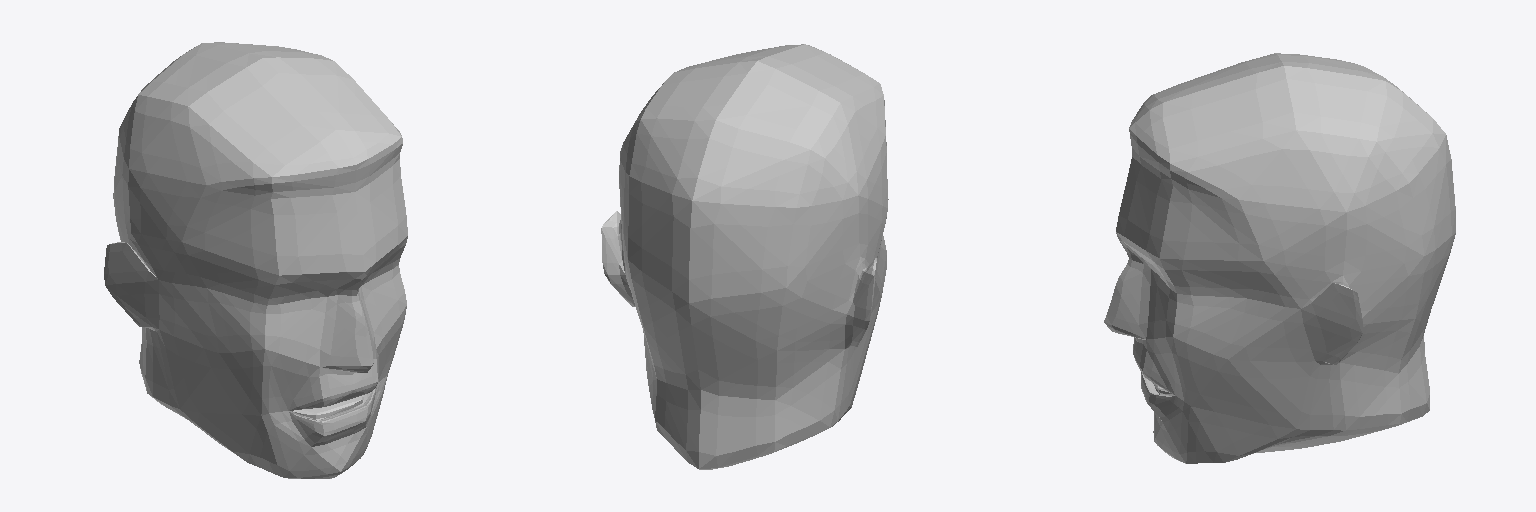
Rendered from CutterHead8.obj.
The picture shows the model from 3 angles: view 1: azimuth 30°, elevation 25°; view 2: azimuth 150°, elevation 25°; view 3: azimuth 270°, elevation 25°; orthographic projection.
Parts seen in each view (by area): view 1: Regroup37; view 2: Regroup37; view 3: Regroup37.
Boxes of the visible parts, <box> form: Regroup37: <box>104,42,407,478</box>; Regroup37: <box>601,44,888,469</box>; Regroup37: <box>1104,53,1455,463</box>.
Size of the model in its own units: 4.23 by 6.16 by 5.06.